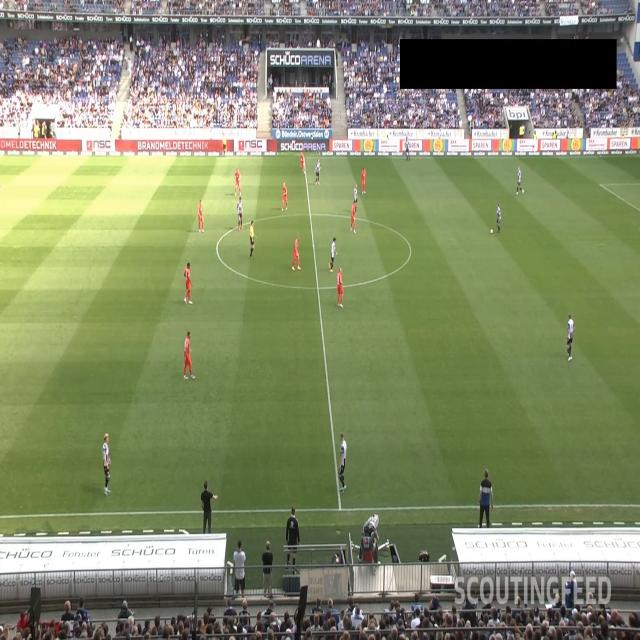ball: (490, 228, 494, 234)
